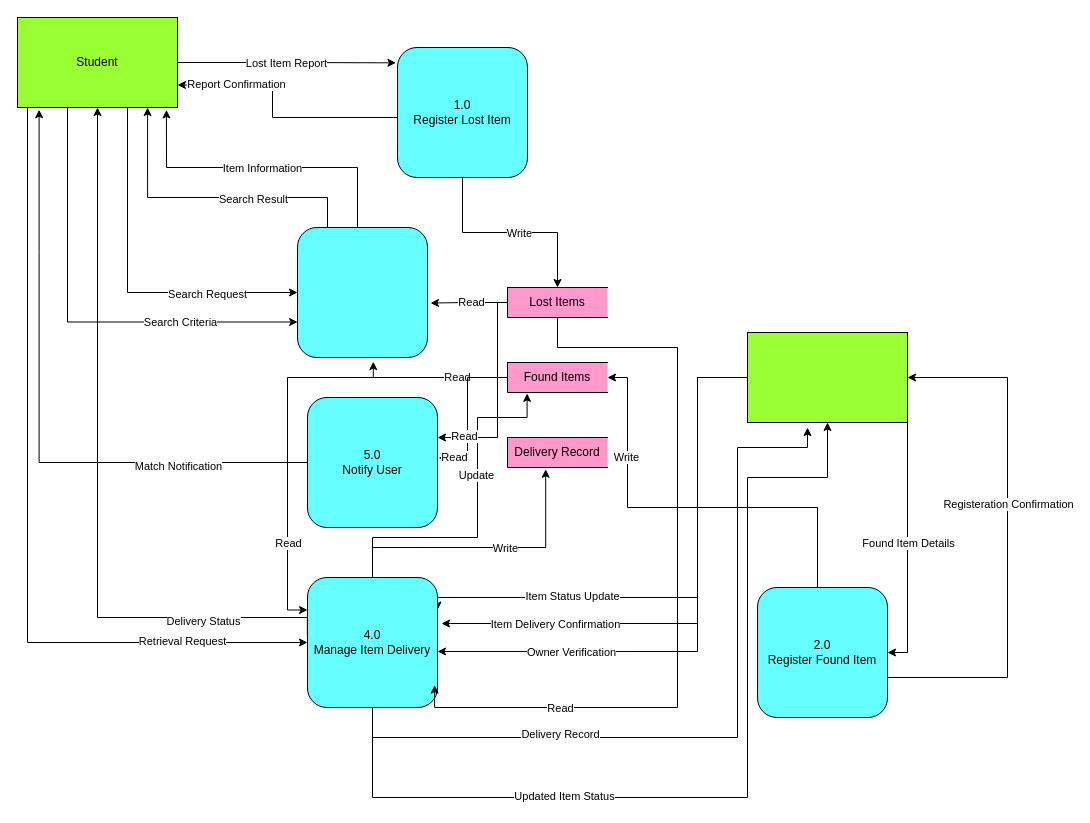
This 1090x823 diagram has some shape labels left out. The shapes that lost their labels are listed below. From the top down, each one's centre as x and y in pixels, then its label:
(362,292): 3.0 Search & Match Item
(827,377): Security Officer
